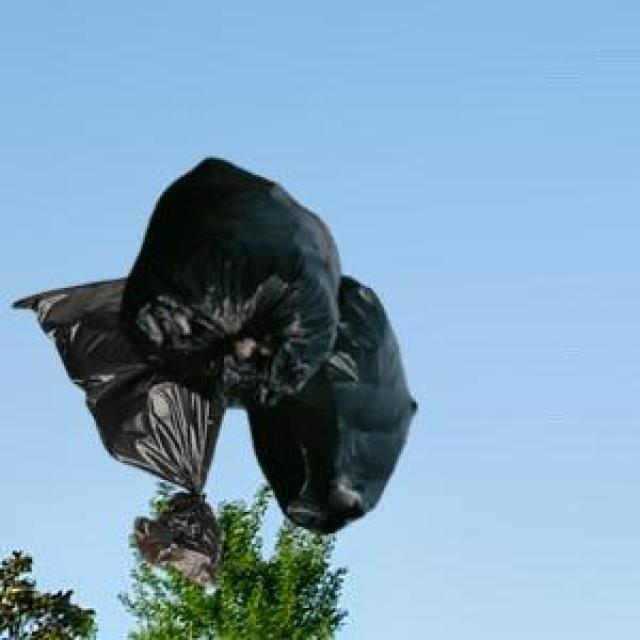Vinyl: (15, 159, 416, 579)
